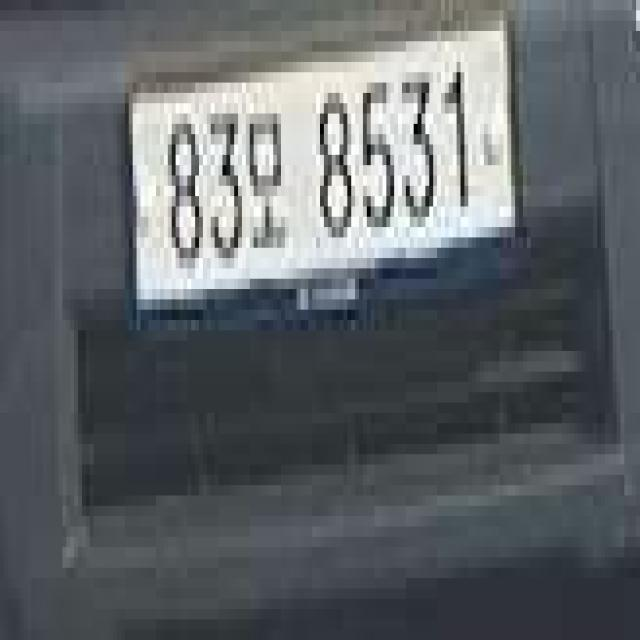plat: (125, 18, 520, 329)
